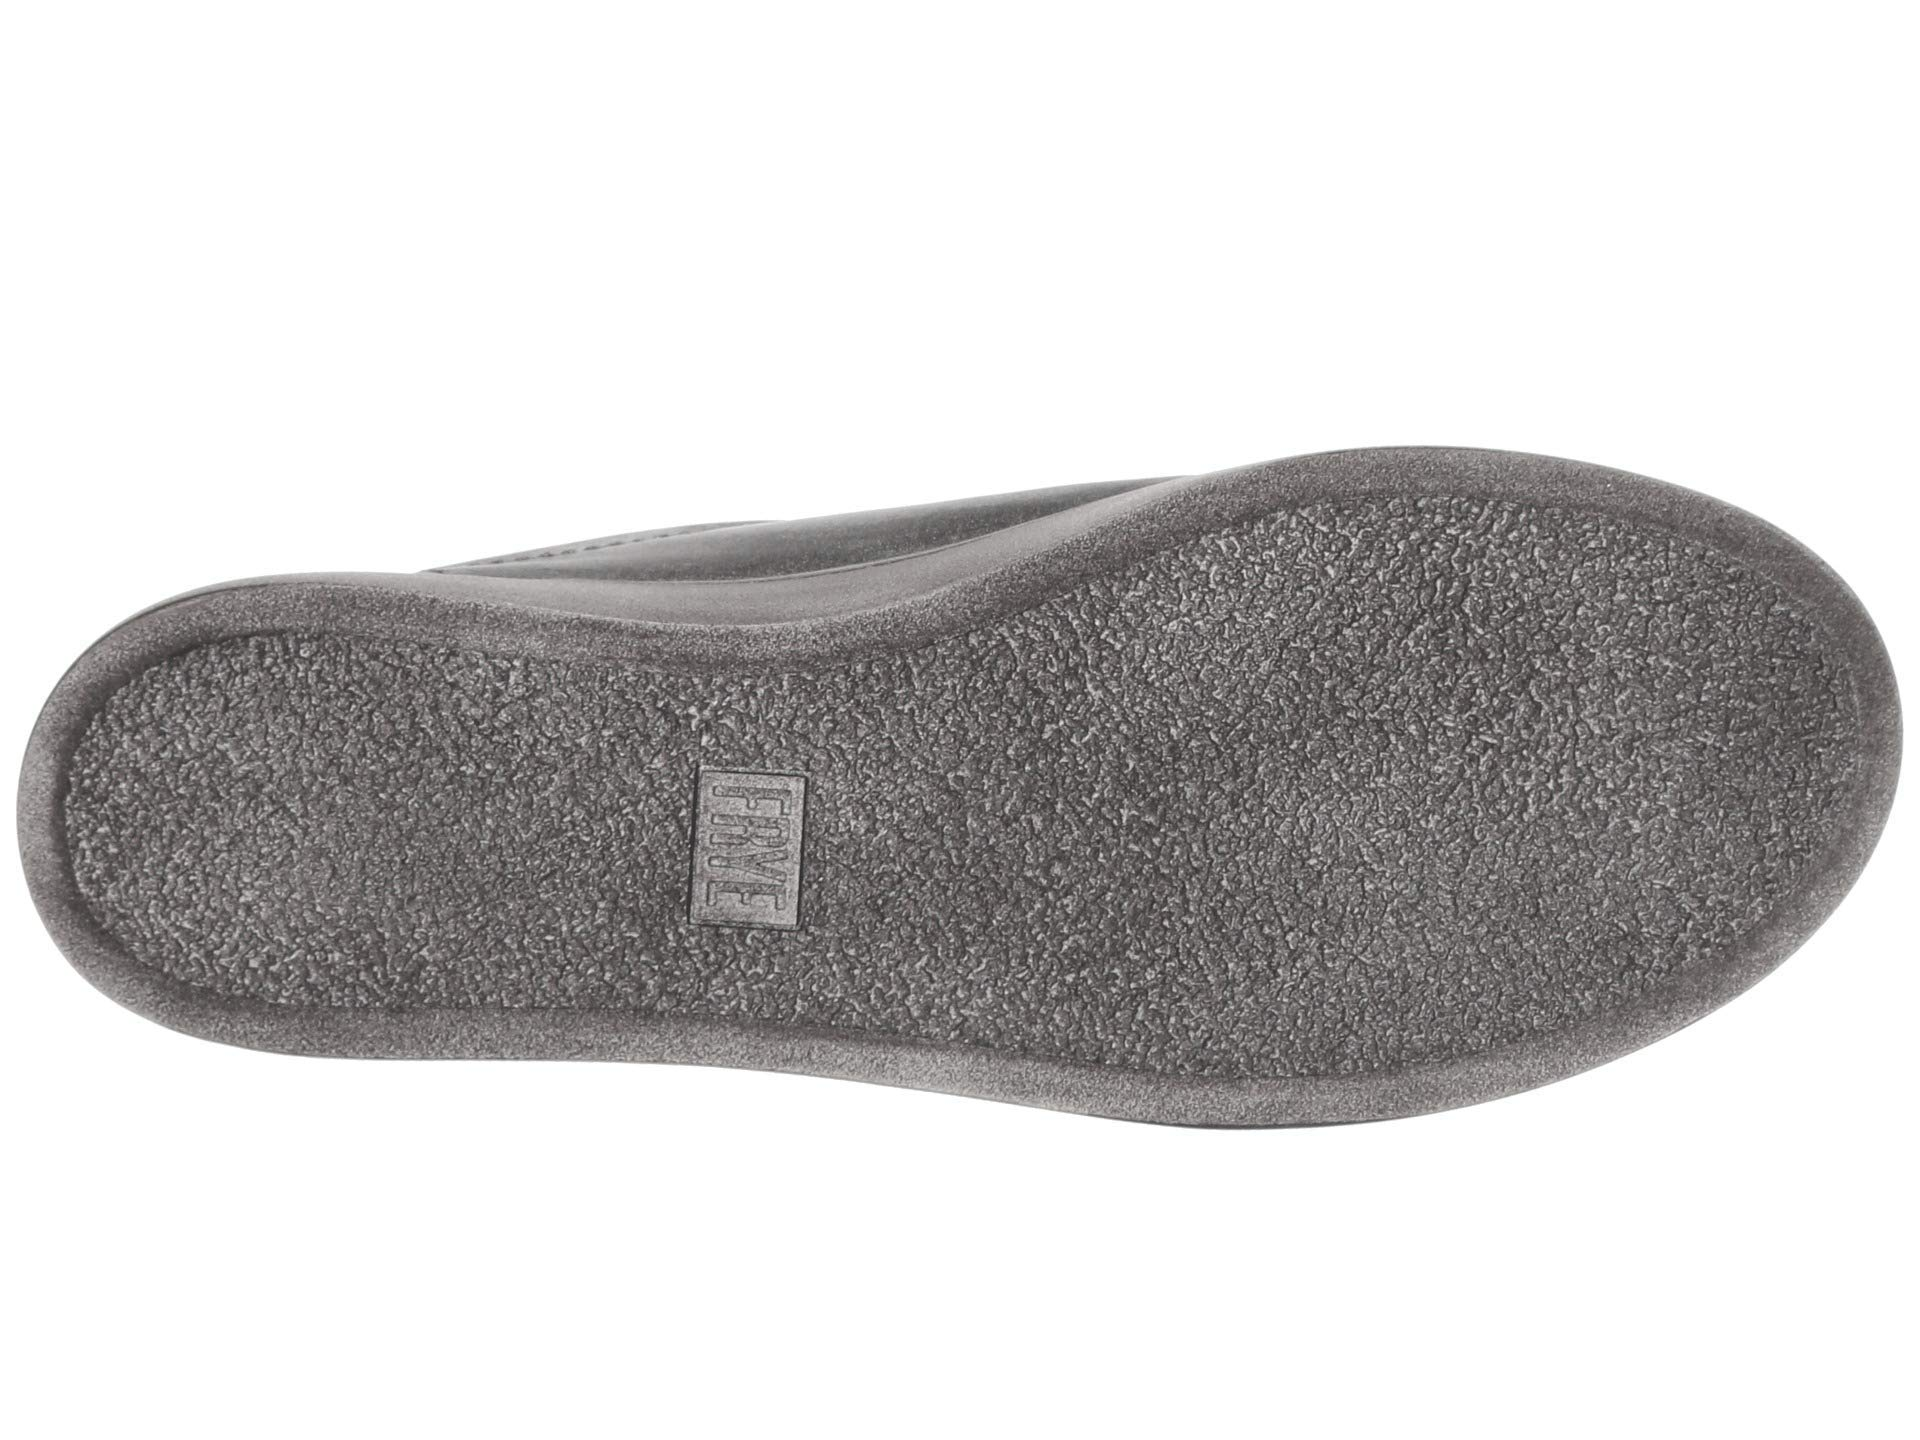other: (1208, 573, 1628, 982), (148, 629, 423, 927)
quad: (671, 749, 815, 954)
text: (671, 749, 815, 954)
